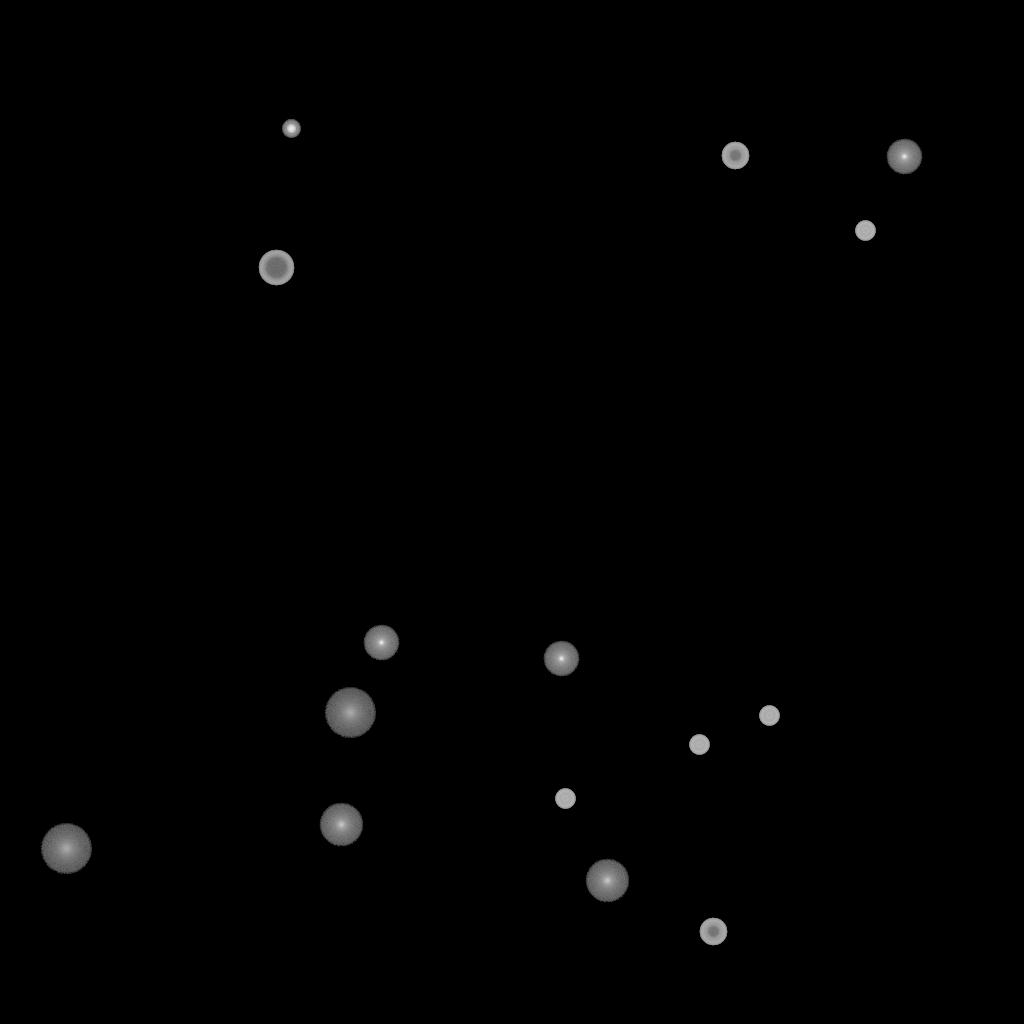depth:-20: (282, 120, 300, 138)
depth:-40: (555, 789, 575, 809), (759, 706, 779, 726), (855, 221, 875, 241), (689, 735, 709, 755)
depth:-50: (699, 918, 727, 946), (721, 142, 749, 170)
depth:-60: (258, 250, 294, 286)
depth:0: (543, 641, 579, 677), (363, 625, 399, 661), (886, 139, 922, 175)
depth:10: (585, 859, 629, 903), (319, 803, 363, 847)
depth:20: (324, 688, 376, 738), (40, 824, 92, 874)
